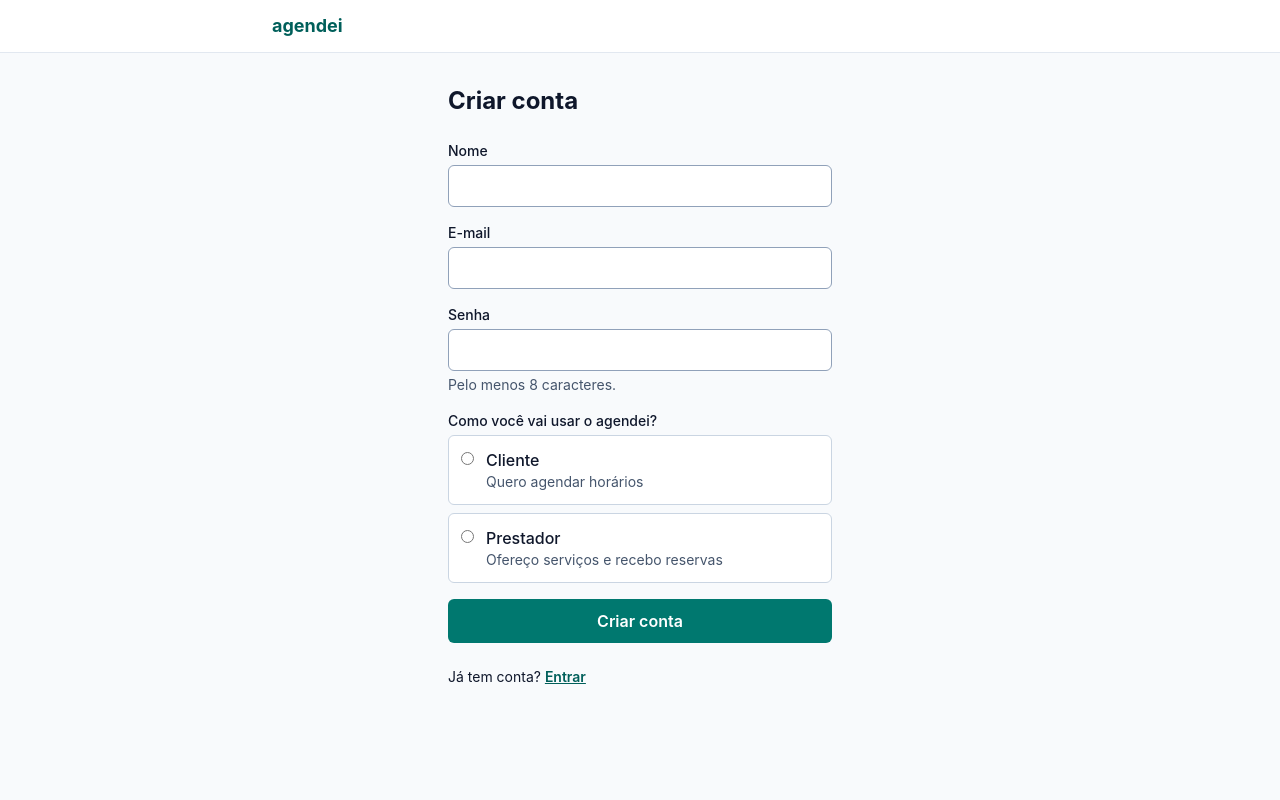
Test: cadastro › com o e-mail em uso, mostra "E-mail já cadastrado" no campo e não entra
Type "Ana Souza" into the field labelled "Nome".
click(640, 186); type("Ana Souza")  # box [448,165,832,207]
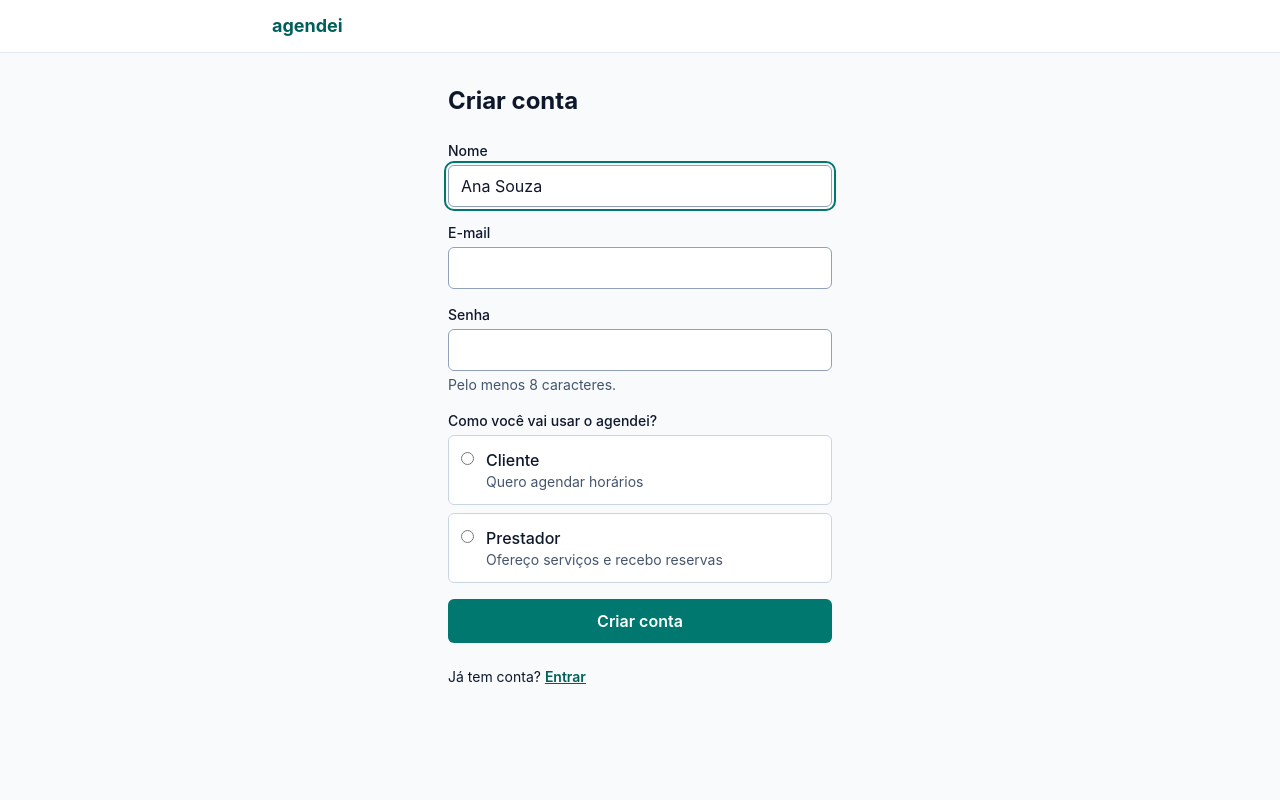
Type "ana@exemplo.com" into the field labelled "E-mail".
click(640, 268); type("ana@exemplo.com")  # box [448,247,832,289]
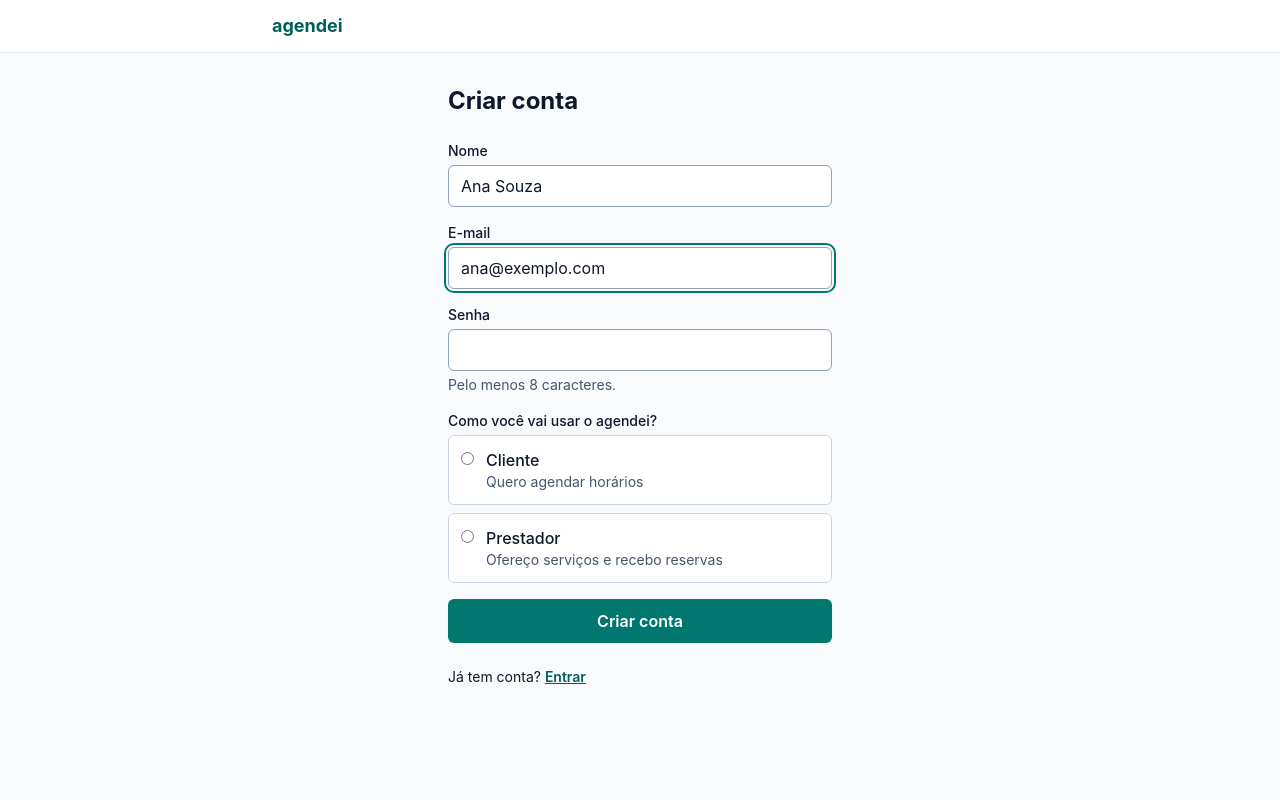
Type "senha-forte-123" into the password field labelled "Senha".
click(640, 350); type("senha-forte-123")  # box [448,329,832,371]
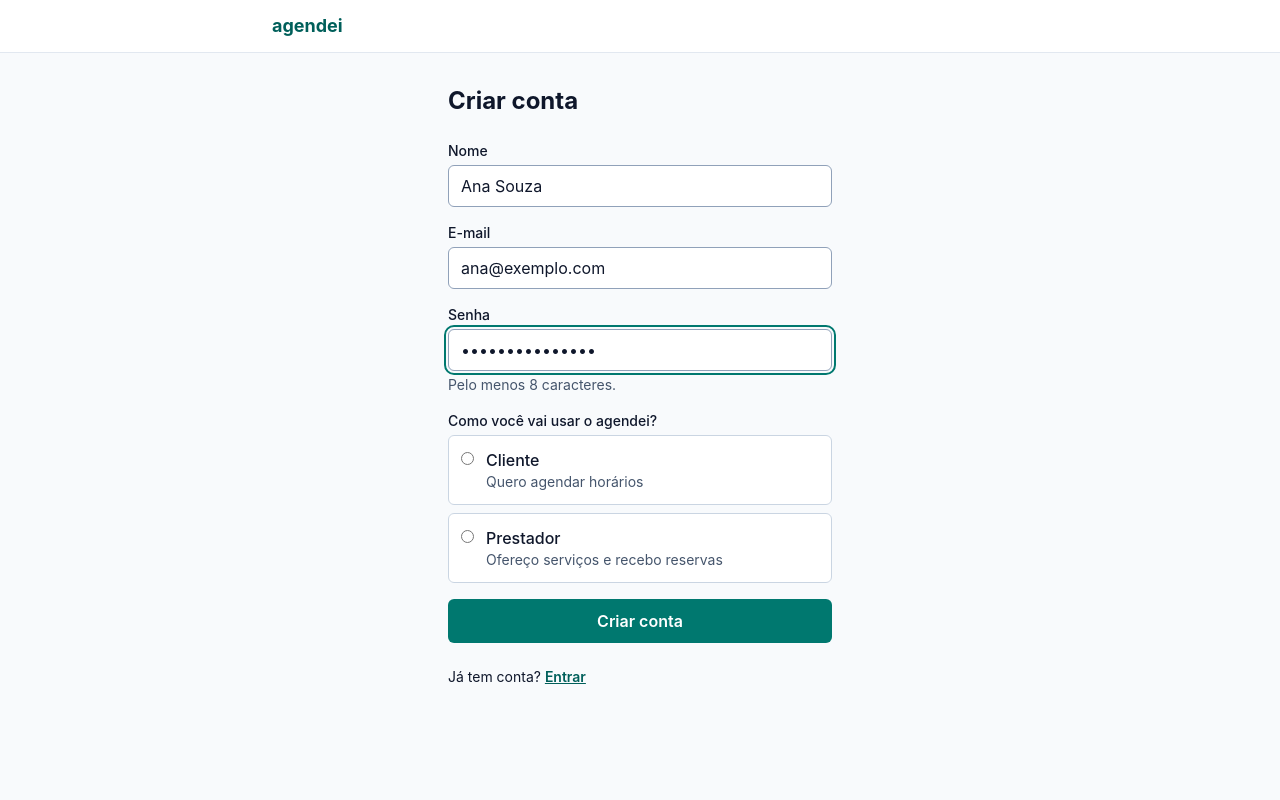
Click the radio button labelled "Prestador Ofereço serviços e recebo reservas".
click(468, 536)  # box [461,530,474,543]
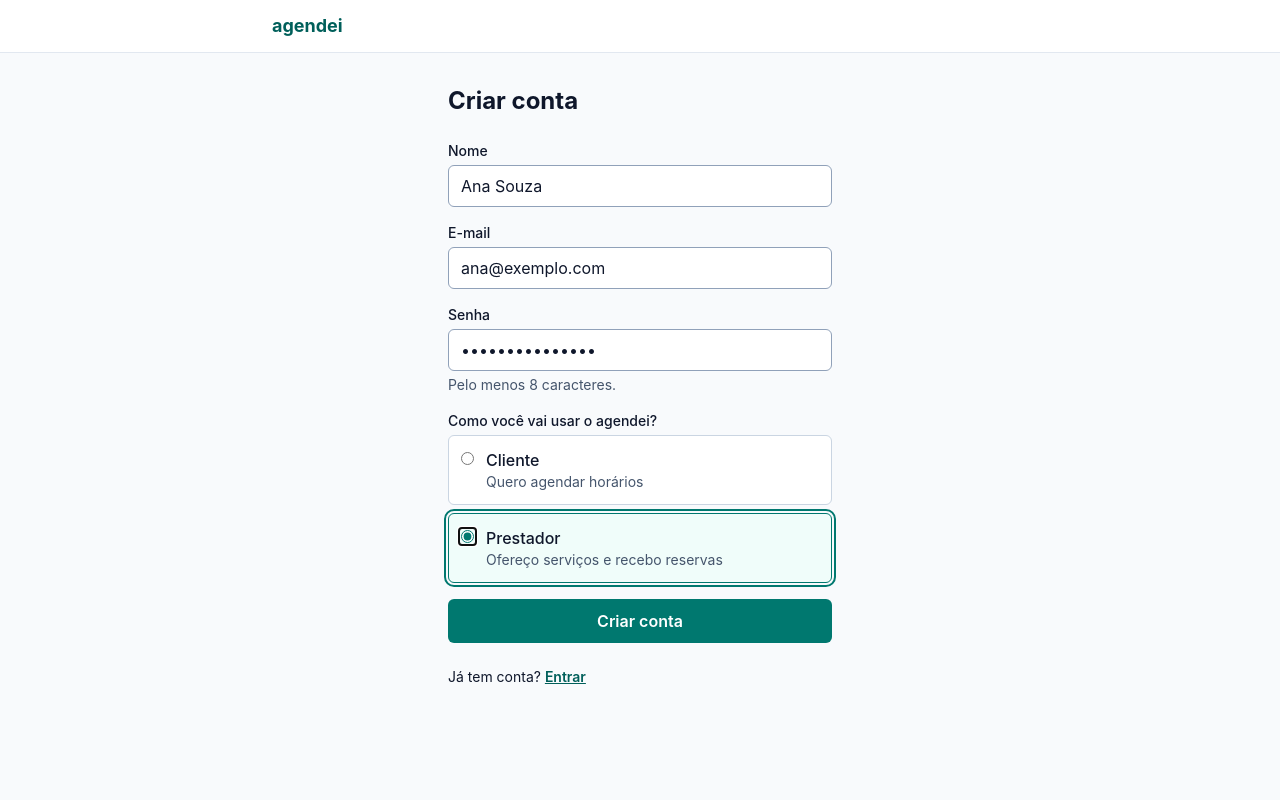
Click the button "Criar conta".
click(640, 621)  # box [448,599,832,643]
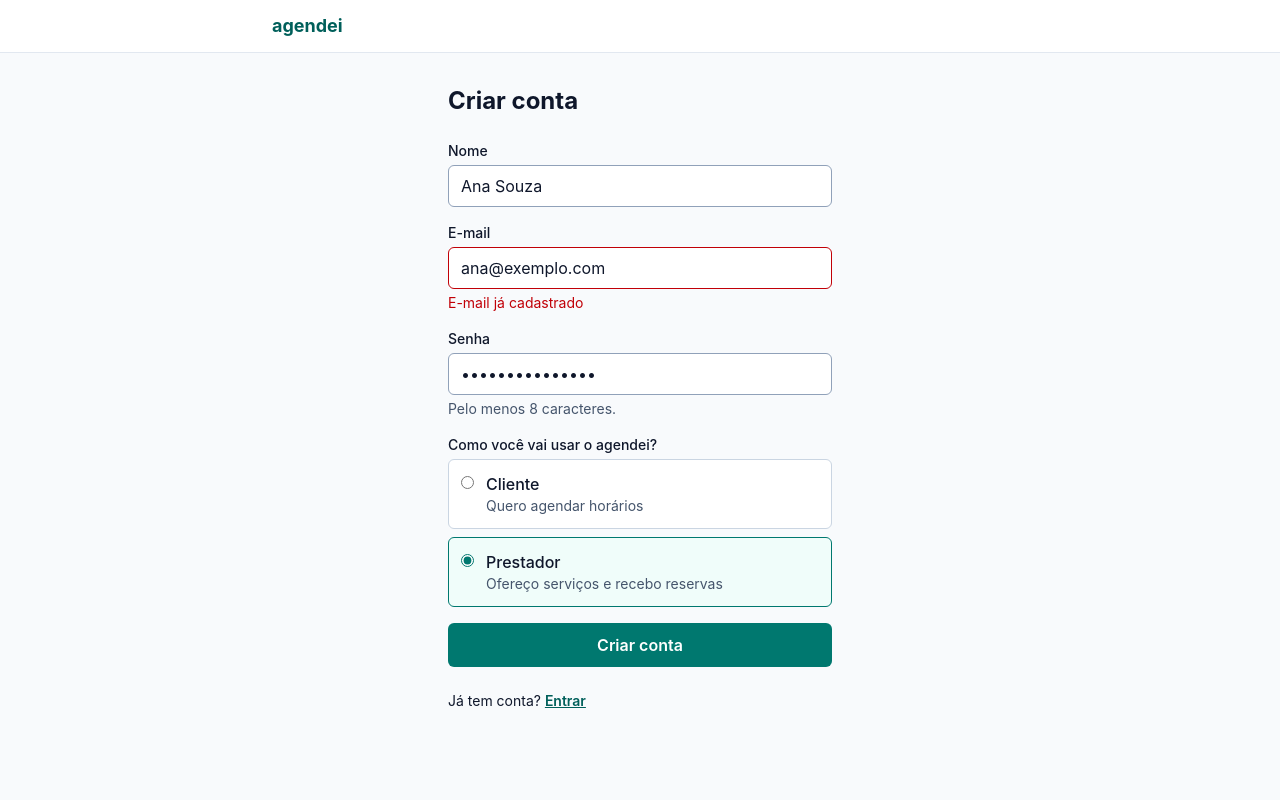
Check: the heading "Criar conta" is shown, box [448,86,578,115]
Check: the text "E-mail já cadastrado" is shown, box [448,294,583,311]
